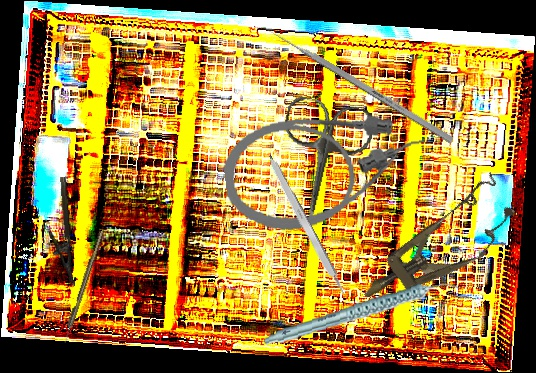Cannula: (219, 104, 434, 237)
Handpiece: (260, 280, 463, 347)
Hook Surgical: (60, 230, 106, 344)
Iris Scissors: (266, 94, 378, 226)
Needle Holder: (45, 176, 75, 288)
Pusher: (262, 24, 455, 144)
Scalpel Handle: (263, 153, 348, 298)
Speculum: (346, 171, 528, 324)
